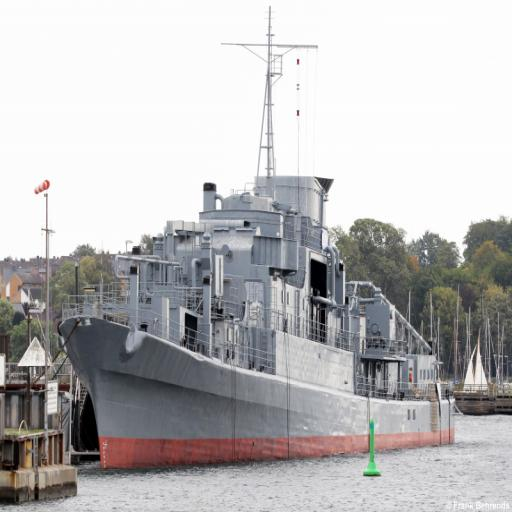Fragata: (52, 2, 461, 481)
